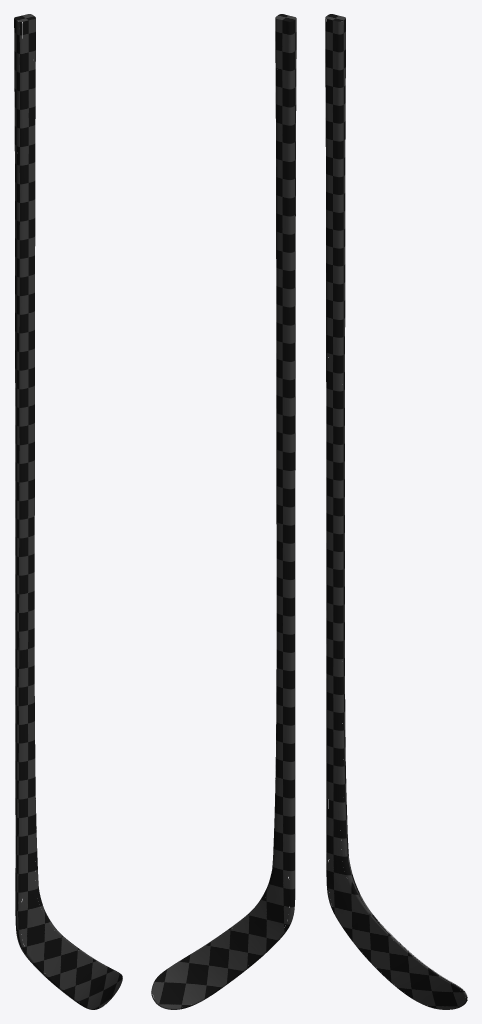
The model's file is P38-SBO.glb.
3 views of the same model, side by side, from view 1: azimuth 30°, elevation 25°; view 2: azimuth 150°, elevation 25°; view 3: azimuth 330°, elevation 25° (orthographic). The views are drawn at different scales.
Visible parts, largest first — view 1: geometry_0; view 2: geometry_0; view 3: geometry_0.
Boxes of the visible parts, bbox=[...] form: geometry_0: bbox=[14, 14, 122, 1009]; geometry_0: bbox=[151, 14, 296, 1009]; geometry_0: bbox=[325, 14, 467, 1009].
Bounding box in the file's own units: 212 × 1650 × 76.85.
1 material, 1 textured.
